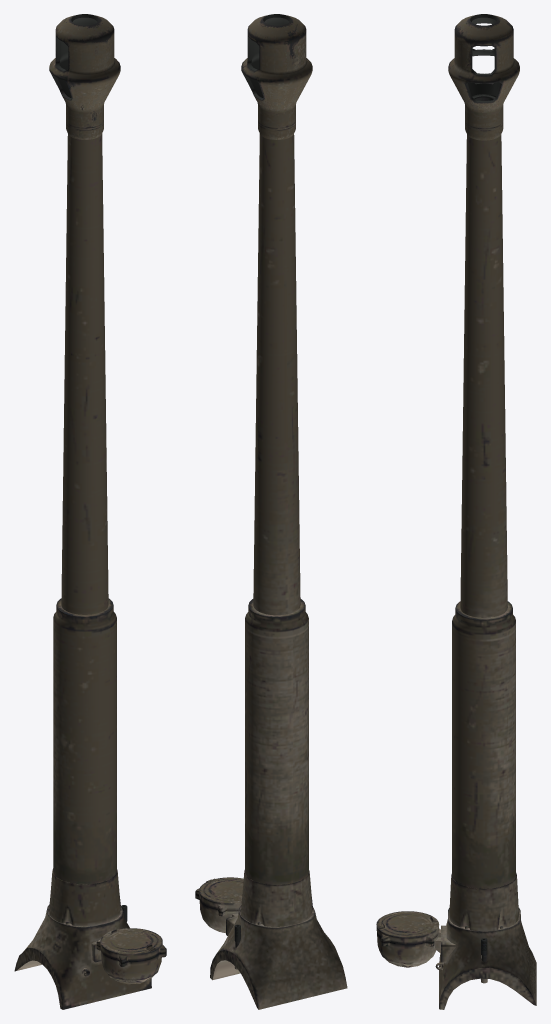
Rendered from Gun_06.glb.
The picture shows the model from 3 angles, left to right: view 1: azimuth 30°, elevation 25°; view 2: azimuth 210°, elevation 25°; view 3: azimuth 270°, elevation 25°; orthographic projection.
Visible parts, largest first — view 1: set_0_group_0; view 2: set_0_group_0; view 3: set_0_group_0.
Part boxes in pixels (<box>): set_0_group_0: <box>14,14,166,1009</box>; set_0_group_0: <box>195,14,347,1009</box>; set_0_group_0: <box>376,14,536,1009</box>.
Bounding box in the file's own units: 0.57 × 5.9 × 0.8837.
1 material, 1 textured.
